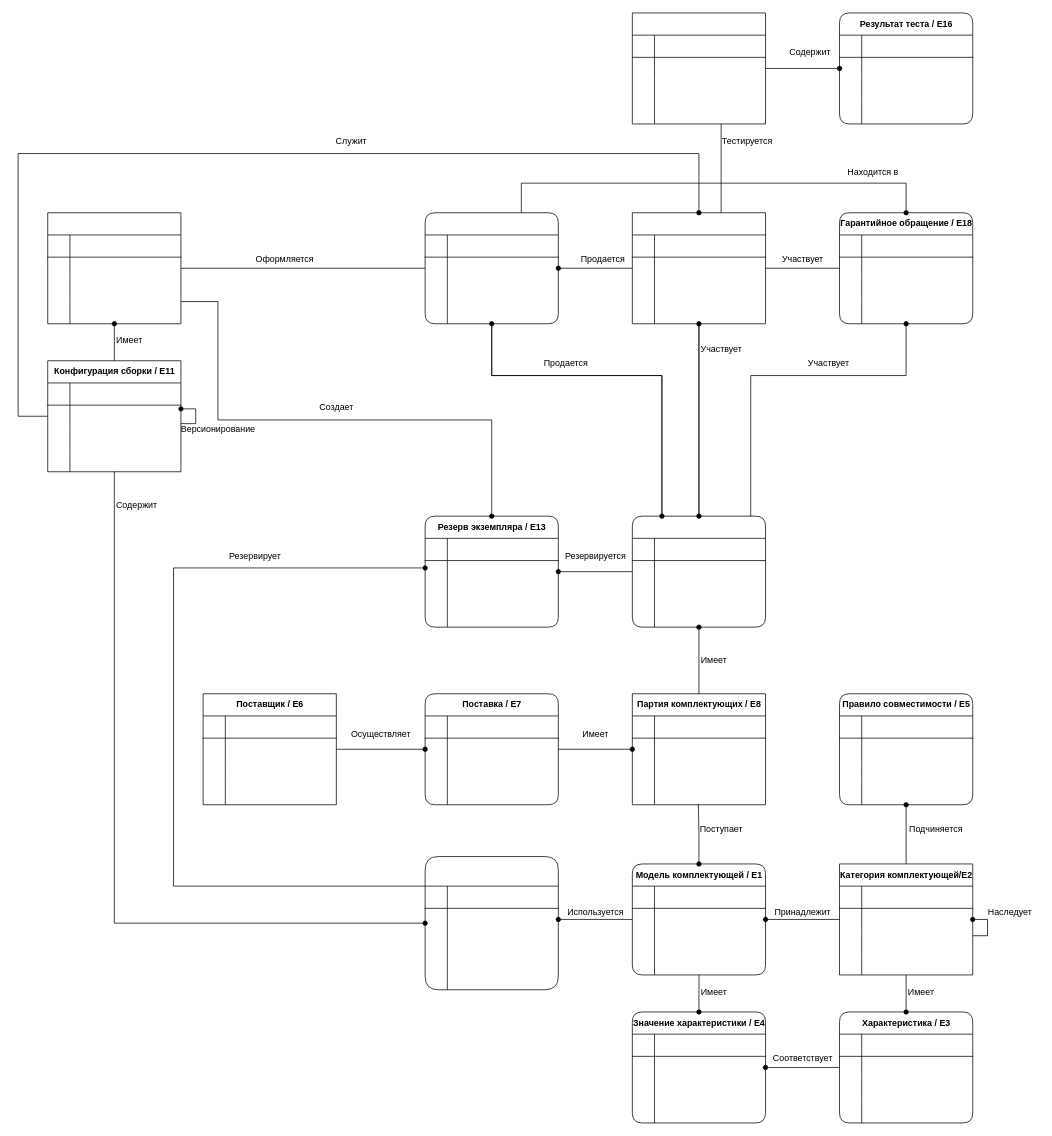
Image size: 1052x1136. Some labels were removed from this diagram. The shapes that lost their labels are listed below. From the top down, each one's centre as x and y in pixels, then its label:
At pixel 699 68: "Тест сборки / E15".
At pixel 114 268: "Заказ клиента / E10".
At pixel 491 268: "Продажа / E17".
At pixel 699 268: "Сборка / E14".
At pixel 699 571: "Экземпляр товара / E9".
At pixel 491 923: "Компонент конфигурации сборки / E12".
